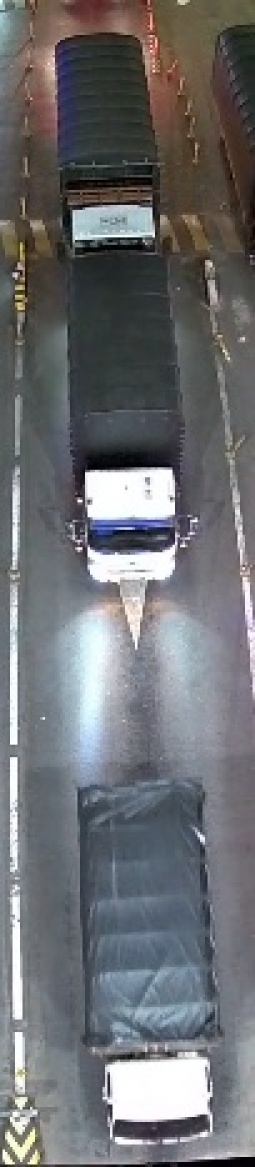truck: (70, 779, 227, 1152), (68, 251, 183, 590), (43, 27, 168, 257)
